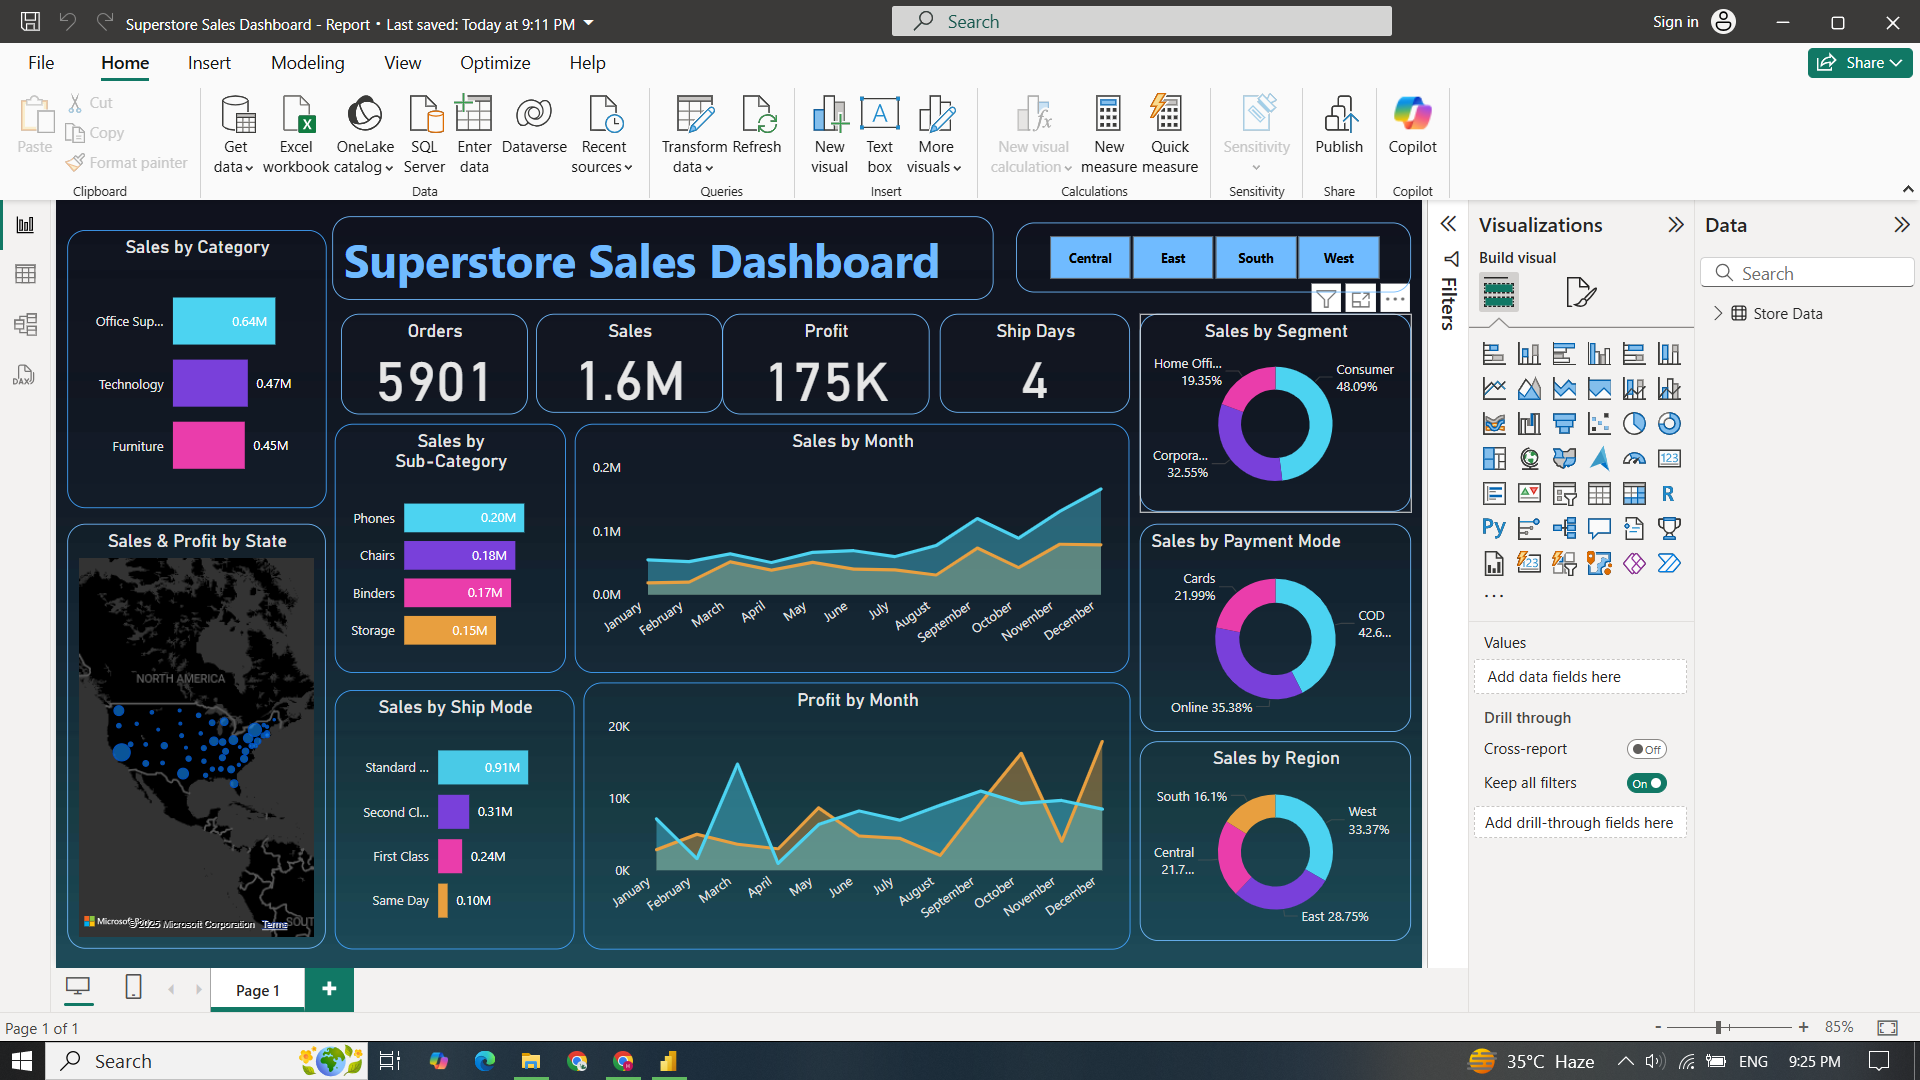

Layout of this report page (visuals, bound fields, positions):
{"tool":"powerbi","page":{"name":"Page 1","canvas":[1280,720],"ordinal":0},"visuals":[{"type":"barChart","title":" Sales by Category","fields":{"Category":["Store Data.Category"],"Y":["Store Data.Sales"]},"box":[10.7,28.6,242.9,260.7],"z":0},{"type":"barChart","title":" Sales by Ship Mode","fields":{"Y":["Store Data.Sales"],"Category":["Store Data.Ship Mode"]},"box":[261.9,459.5,225,242.9],"z":1000},{"type":"barChart","title":" Sales by Sub-Category","fields":{"Category":["Store Data.Sub-Category"],"Y":["Store Data.Sales"]},"box":[261.9,209.5,216.7,233.3],"z":2000},{"type":"areaChart","title":" Sales by Month ","fields":{"Y":["Store Data.Sales"],"Series":["Store Data.Order Date.Variation.Date Hierarchy.Year"],"Category":["Store Data.Order Date.Variation.Date Hierarchy.Month","Store Data.Order Date.Variation.Date Hierarchy.Day"]},"box":[486.9,209.5,520.2,233.3],"z":3000},{"type":"areaChart","title":" Profit by Month ","fields":{"Series":["Store Data.Order Date.Variation.Date Hierarchy.Year"],"Category":["Store Data.Order Date.Variation.Date Hierarchy.Month","Store Data.Order Date.Variation.Date Hierarchy.Day"],"Y":["Store Data.Profit"]},"box":[494,452.4,513.1,250],"z":4000},{"type":"map","title":" Sales  & Profit by State","fields":{"Category":["Store Data.State"],"Size":["Store Data.Sales"]},"box":[10.5,303.5,242.6,398.4],"z":5000},{"type":"donutChart","title":"Sales by Payment Mode","fields":{"Category":["Store Data.Payment Mode"],"Y":["Store Data.Sales"]},"box":[1015.5,303.6,254.8,195.2],"z":6000},{"type":"donutChart","title":"Sales by Region","fields":{"Y":["Store Data.Sales"],"Category":["Store Data.Region"]},"box":[1015.5,507.1,254.8,186.9],"z":7000},{"type":"donutChart","title":"Sales by Segment","fields":{"Y":["Store Data.Sales"],"Category":["Store Data.Segment"]},"box":[1015.5,107.1,254.8,185.7],"z":8000},{"type":"card","title":" Orders","fields":{"Values":["Store Data.Order ID"]},"box":[266.7,107.1,175,94],"z":9000},{"type":"card","title":"Sales","fields":{"Values":["Store Data.Sales"]},"box":[450,107.1,175,92.9],"z":10000},{"type":"card","title":"Profit","fields":{"Values":["Store Data.Profit"]},"box":[625,107.1,194,94],"z":11000},{"type":"card","title":"Ship Days","fields":{"Values":["Store Data.AvgDelivery"]},"box":[828.6,107.1,178.6,92.9],"z":12000},{"type":"textbox","box":[259,15.2,619.9,78.5],"z":13000},{"type":"slicer","fields":{"Values":["Store Data.Region"]},"box":[900,21.1,370.3,65.6],"z":14000}]}

Visuals, with their boxes on the page's 1280x720 design canvas (x1, y1, x2, y2). These are canvas units, not pixel positions in the 1920x1080 screenshot, which may show the page scaled, cropped or inside an application window:
" Sales by Category" barChart: x1=11, y1=29, x2=254, y2=289
" Sales by Ship Mode" barChart: x1=262, y1=460, x2=487, y2=702
" Sales by Sub-Category" barChart: x1=262, y1=210, x2=479, y2=443
" Sales by Month " areaChart: x1=487, y1=210, x2=1007, y2=443
" Profit by Month " areaChart: x1=494, y1=452, x2=1007, y2=702
" Sales  & Profit by State" map: x1=10, y1=304, x2=253, y2=702
"Sales by Payment Mode" donutChart: x1=1016, y1=304, x2=1270, y2=499
"Sales by Region" donutChart: x1=1016, y1=507, x2=1270, y2=694
"Sales by Segment" donutChart: x1=1016, y1=107, x2=1270, y2=293
" Orders" card: x1=267, y1=107, x2=442, y2=201
"Sales" card: x1=450, y1=107, x2=625, y2=200
"Profit" card: x1=625, y1=107, x2=819, y2=201
"Ship Days" card: x1=829, y1=107, x2=1007, y2=200
textbox: x1=259, y1=15, x2=879, y2=94
slicer - Store Data.Region: x1=900, y1=21, x2=1270, y2=87
